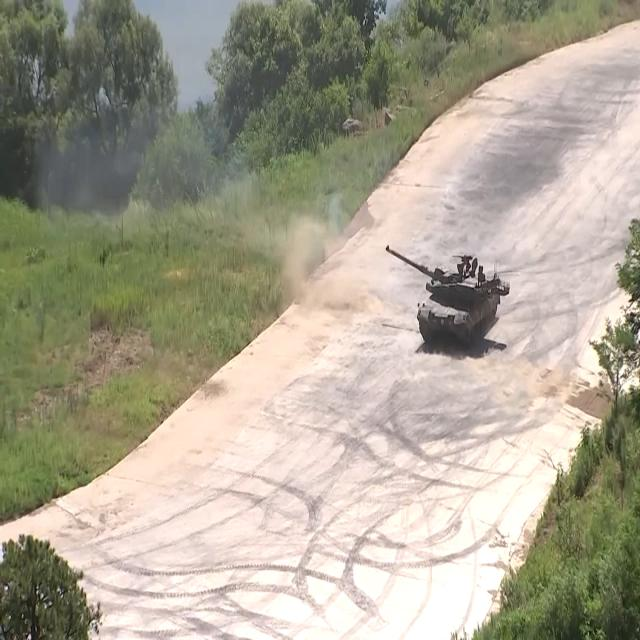korea tank: (386, 242, 510, 346)
